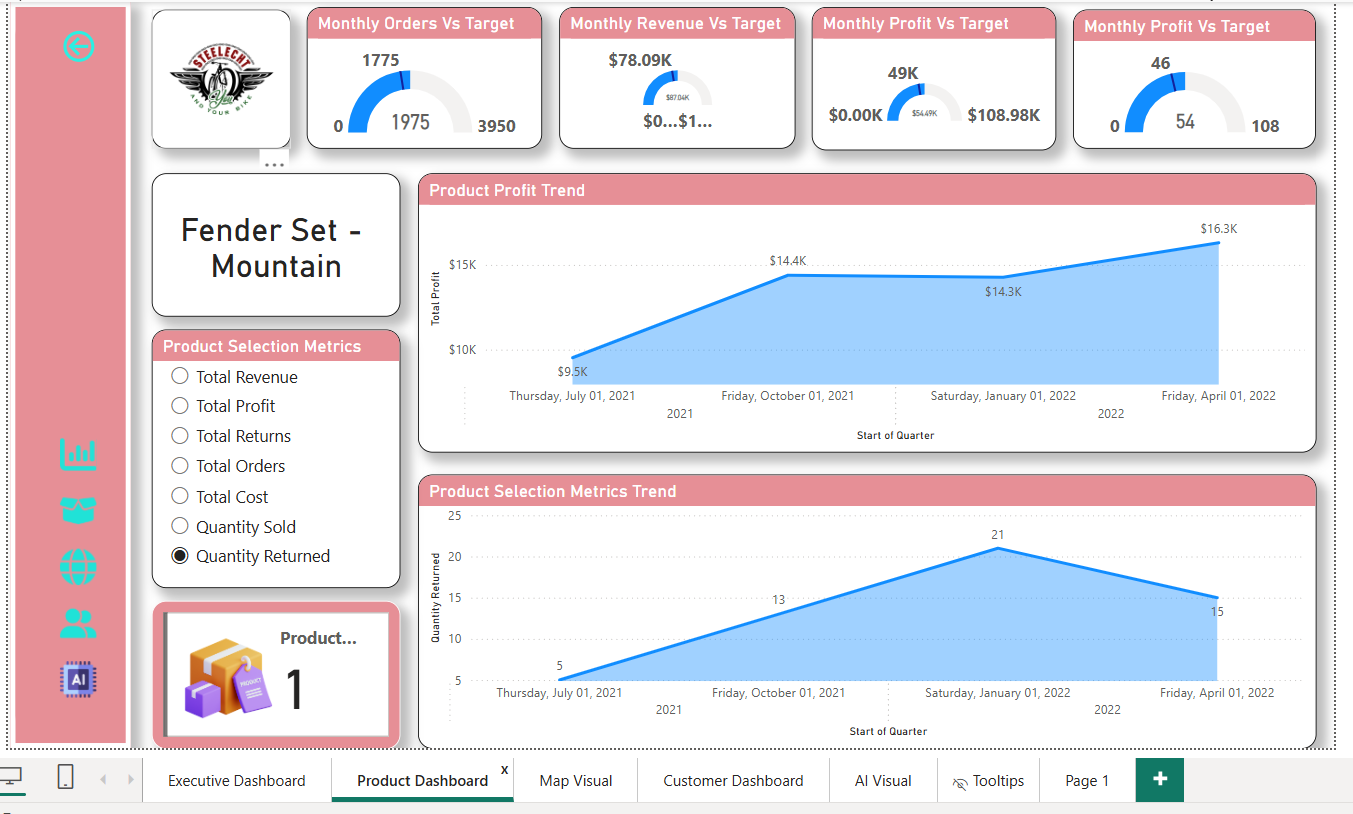

Layout of this report page (visuals, bound fields, positions):
{"tool":"powerbi","page":{"name":"Product Dashboard","canvas":[1280,720],"ordinal":1},"visuals":[{"type":"actionButton","box":[27.7,415,79.6,43.4],"z":0,"group":"g1"},{"type":"image","box":[138.5,6.8,134.2,134.2],"z":0},{"type":"gauge","title":"Monthly Orders Vs Target","fields":{"Y":["_Measure.Total Orders"],"TargetValue":["_Measure.Previous Month Order"]},"box":[288.8,5.4,226.9,136.9],"z":1000},{"type":"actionButton","box":[27.7,469.3,79.6,43.4],"z":1000,"group":"g1"},{"type":"gauge","title":"Monthly Profit Vs Target","fields":{"Y":["_Measure.Total Profit"],"TargetValue":["_Measure.Previous Month Profit"]},"box":[776.1,4.8,235.8,138.2],"z":2000},{"type":"actionButton","box":[27.7,523.6,79.6,43.4],"z":2000,"group":"g1"},{"type":"gauge","title":"Monthly Revenue Vs Target","fields":{"Y":["_Measure.Total Revenue"],"TargetValue":["_Measure.Previous Month Revenue"]},"box":[531.8,5.4,228.2,136.9],"z":3000},{"type":"actionButton","box":[27.7,577.9,79.6,43.4],"z":3000,"group":"g1"},{"type":"gauge","title":"Monthly Profit Vs Target","fields":{"Y":["_Measure.Total Returns"],"TargetValue":["_Measure.Previous Month Returns"]},"box":[1028,6.7,234.5,134.4],"z":4000},{"type":"actionButton","box":[27.7,632.2,79.6,43.4],"z":4000,"group":"g1"},{"type":"card","title":"Most Ordered Item","fields":{"Values":["Min(Product Lookup.ProductName)"]},"box":[138.4,165.7,240.2,138.4],"z":5000},{"type":"areaChart","title":"Product Profit Trend","fields":{"Category":["Calendar Lookup.Date Hierarchy.Year","Calendar Lookup.Date Hierarchy.Start of Quarter","Calendar Lookup.Date Hierarchy.Start of Month"],"Y":["_Measure.Total Profit"]},"box":[395.1,165.4,866.8,269.5],"z":6000},{"type":"areaChart","title":"Product Selection Metrics Trend","fields":{"Y":["_Measure.Quantity Returned"],"Category":["Calendar Lookup.Date Hierarchy.Year","Calendar Lookup.Date Hierarchy.Start of Quarter","Calendar Lookup.Date Hierarchy.Start of Month"]},"box":[395.1,456.4,866.8,264.9],"z":7000},{"type":"slicer","title":"Product Selection Metrics","fields":{"Values":["Product Selection Matrics.Product Selection Matrics"]},"box":[138.4,316.3,240.2,249.4],"z":8000},{"type":"cardVisual","fields":{"Data":["CountNonNull(Product Lookup.ProductKey)"]},"box":[138.4,577.8,240.2,142.9],"z":9000},{"type":"actionButton","box":[0,0,100,40],"z":10000},{"type":"shape","box":[2.4,0,115.8,720.2],"z":11000},{"type":"group","id":"g1","title":"Group 1","box":[27.7,415,79.6,260.6],"z":12000},{"type":"actionButton","box":[18.1,22.9,100.1,39.8],"z":13000}]}

Visuals, with their boxes in screenshot pixels (x1, y1, x2, y2):
actionButton: BBox(32, 429, 115, 474)
image: BBox(148, 4, 288, 143)
"Monthly Orders Vs Target" gauge: BBox(305, 2, 541, 145)
actionButton: BBox(32, 486, 115, 531)
"Monthly Profit Vs Target" gauge: BBox(813, 1, 1058, 146)
actionButton: BBox(32, 542, 115, 588)
"Monthly Revenue Vs Target" gauge: BBox(558, 2, 796, 145)
actionButton: BBox(32, 599, 115, 644)
"Monthly Profit Vs Target" gauge: BBox(1075, 3, 1320, 144)
actionButton: BBox(32, 655, 115, 701)
"Most Ordered Item" card: BBox(148, 169, 398, 313)
"Product Profit Trend" areaChart: BBox(415, 169, 1319, 450)
"Product Selection Metrics Trend" areaChart: BBox(415, 472, 1319, 748)
"Product Selection Metrics" slicer: BBox(148, 326, 398, 586)
cardVisual - CountNonNull(Product Lookup.ProductKey): BBox(148, 599, 398, 748)
actionButton: BBox(4, 0, 108, 38)
shape: BBox(6, 0, 127, 747)
"Group 1" group: BBox(32, 429, 115, 701)
actionButton: BBox(22, 20, 127, 62)
